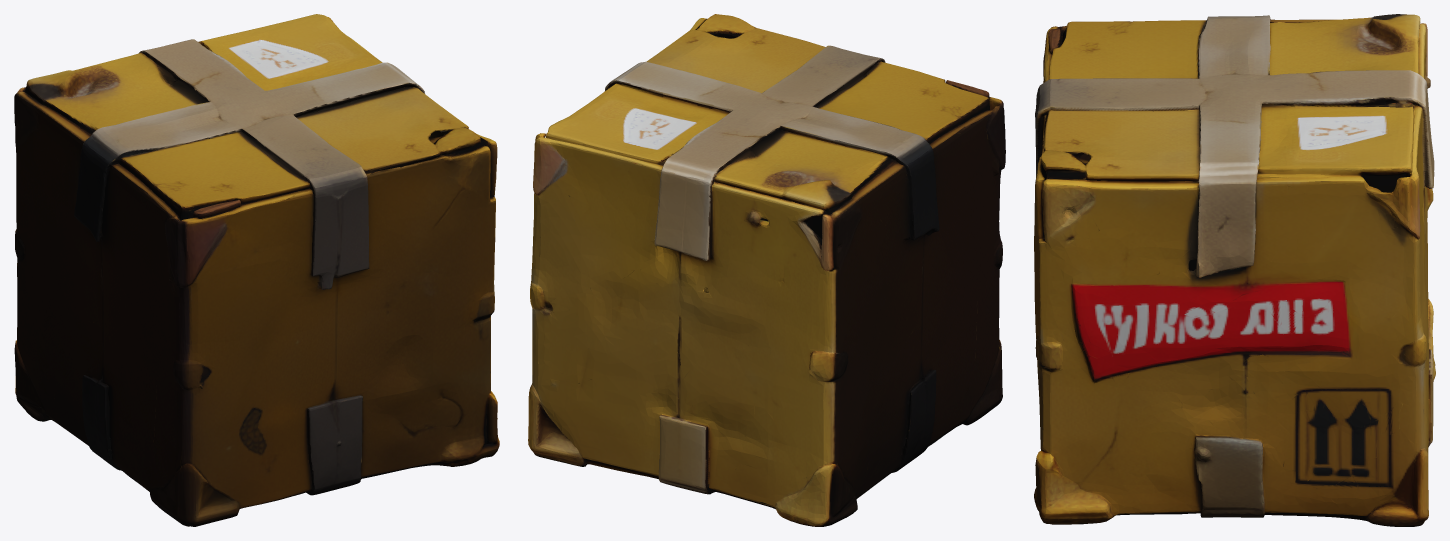
3 views of the same model, side by side, from view 1: azimuth 30°, elevation 25°; view 2: azimuth 150°, elevation 25°; view 3: azimuth 270°, elevation 25° (orthographic). The views are drawn at different scales.
Visible parts, largest first — view 1: world; view 2: world; view 3: world.
Boxes of the visible parts, bbox=[...] form: world: bbox=[14, 14, 499, 526]; world: bbox=[528, 14, 1005, 526]; world: bbox=[1034, 14, 1435, 526].
Bounding box in the file's own units: 0.9586 × 0.9062 × 0.9054.
Materials: 1 (1 with a texture image).
